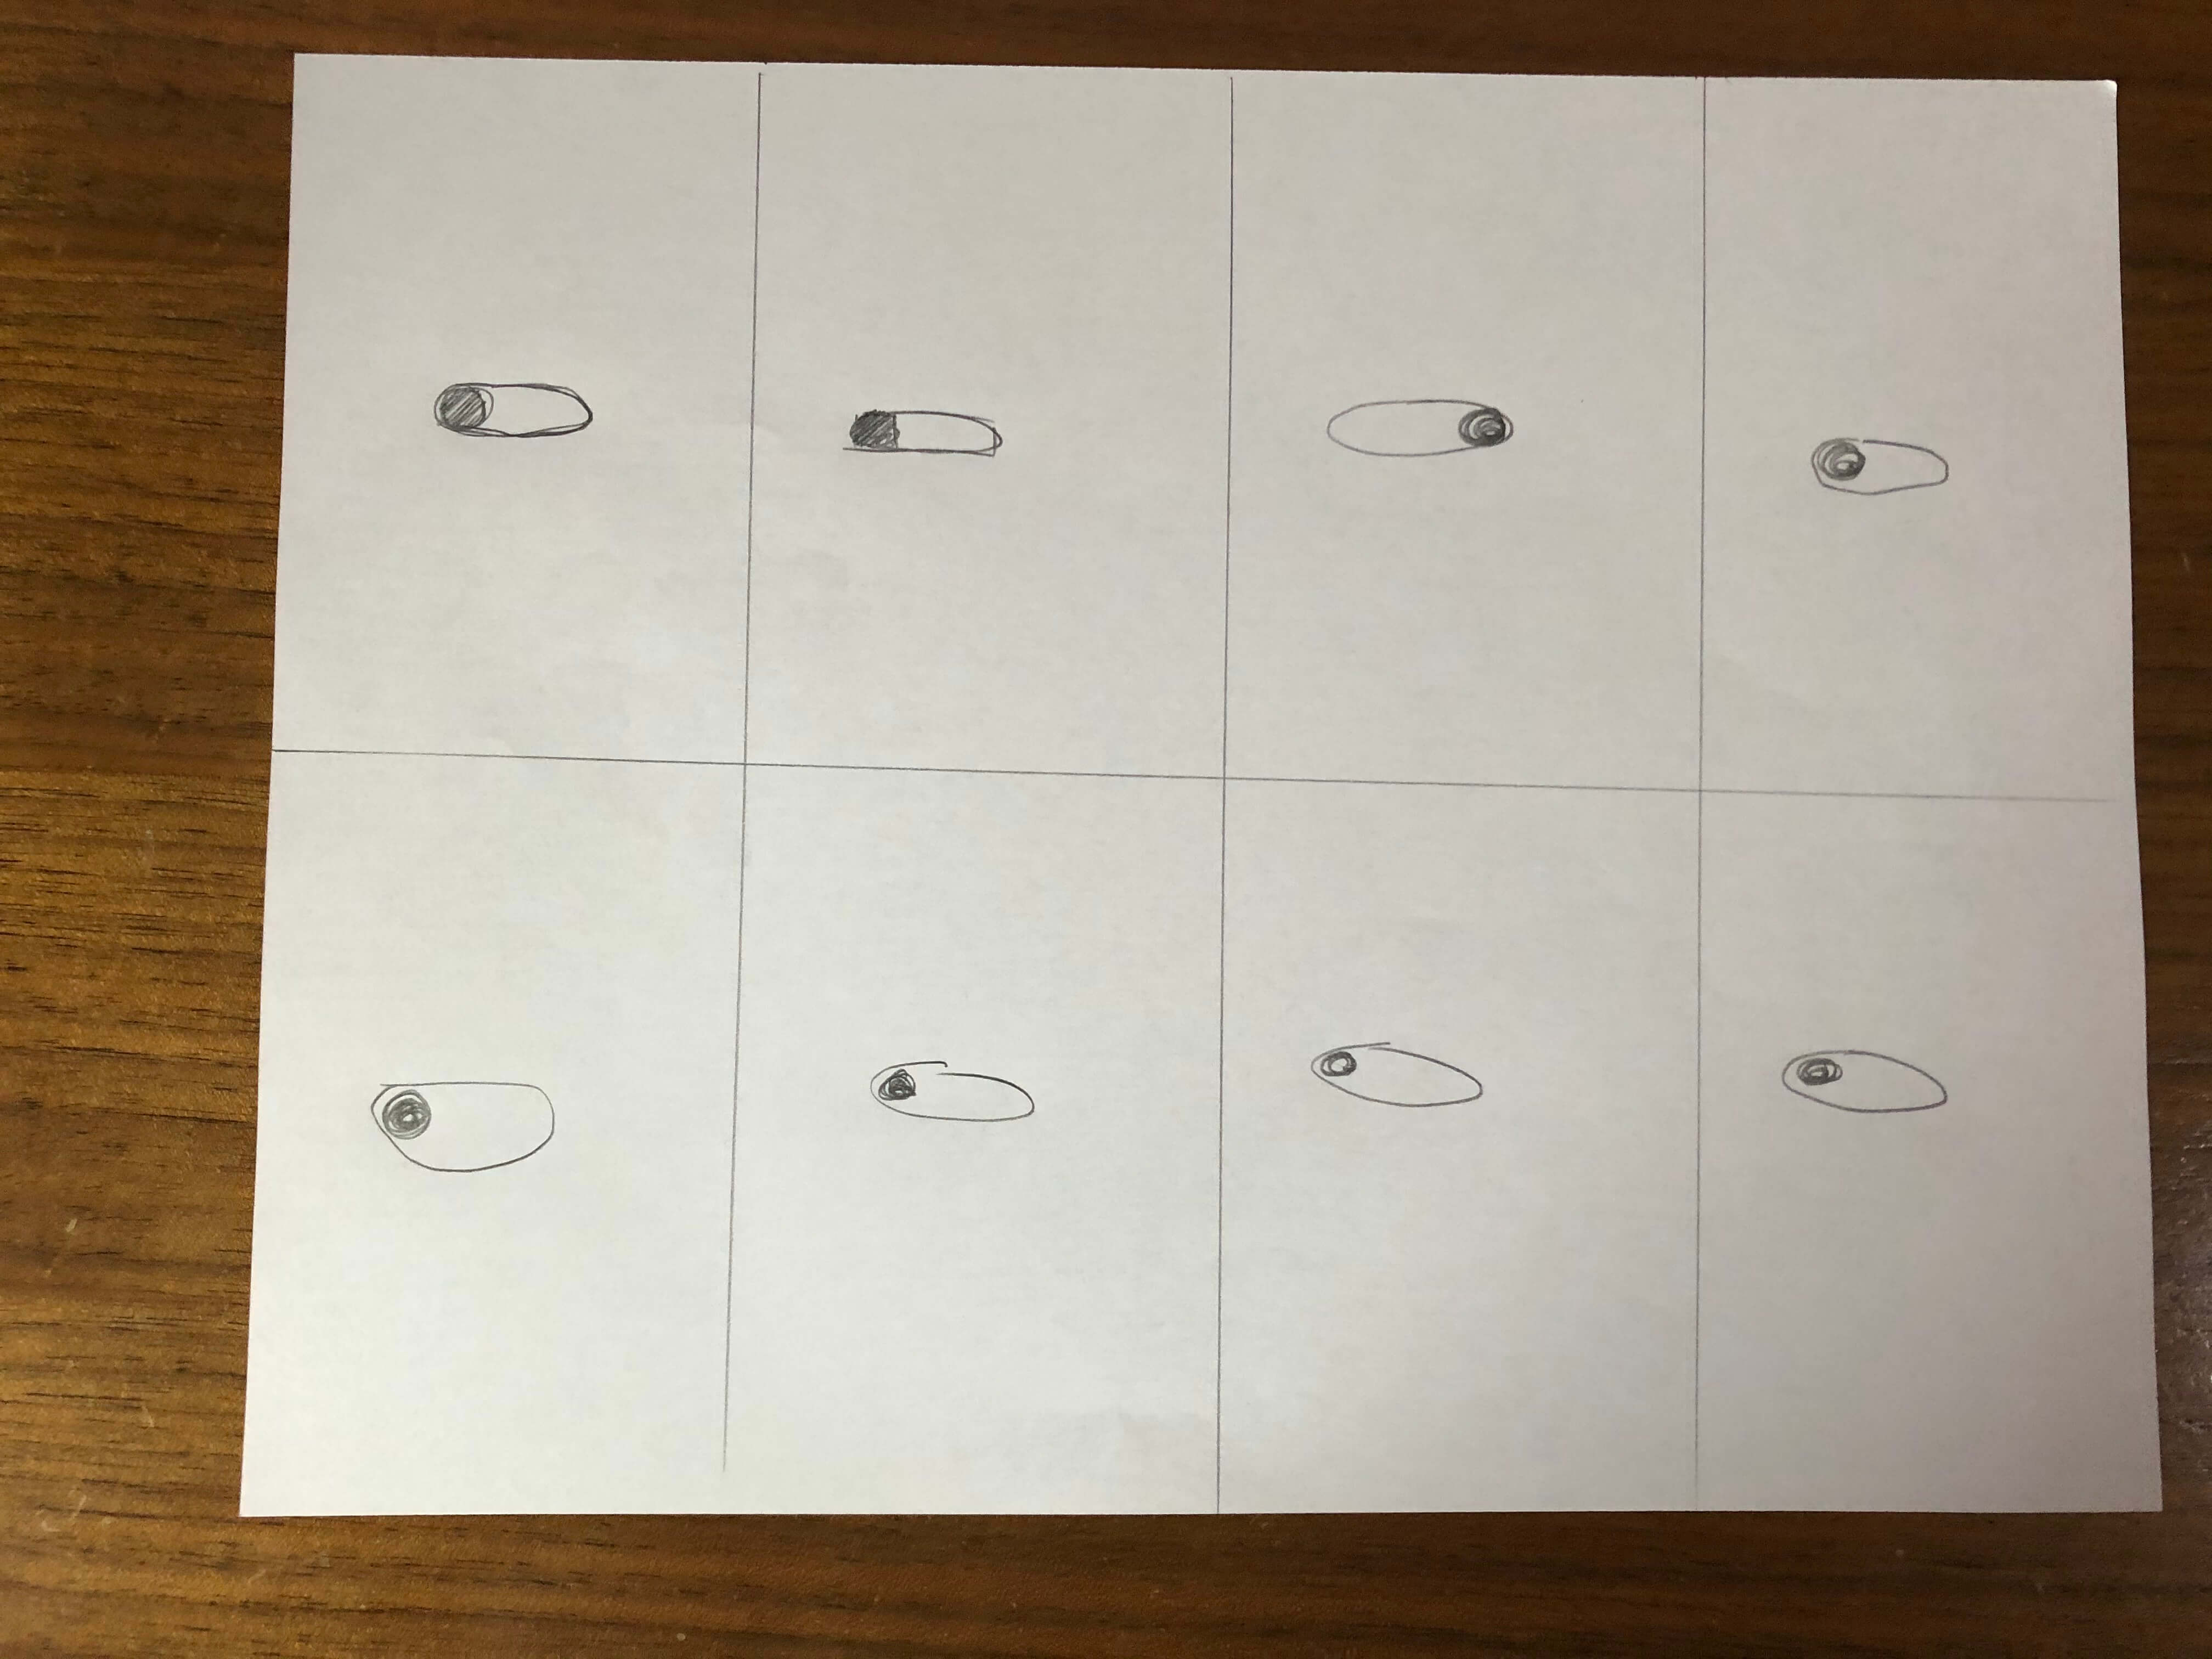switch: (852, 1044, 1050, 1140), (1775, 1032, 1956, 1131), (1312, 1026, 1496, 1121), (1320, 385, 1522, 469), (425, 369, 611, 458), (836, 394, 1017, 469), (1799, 416, 1954, 500)
